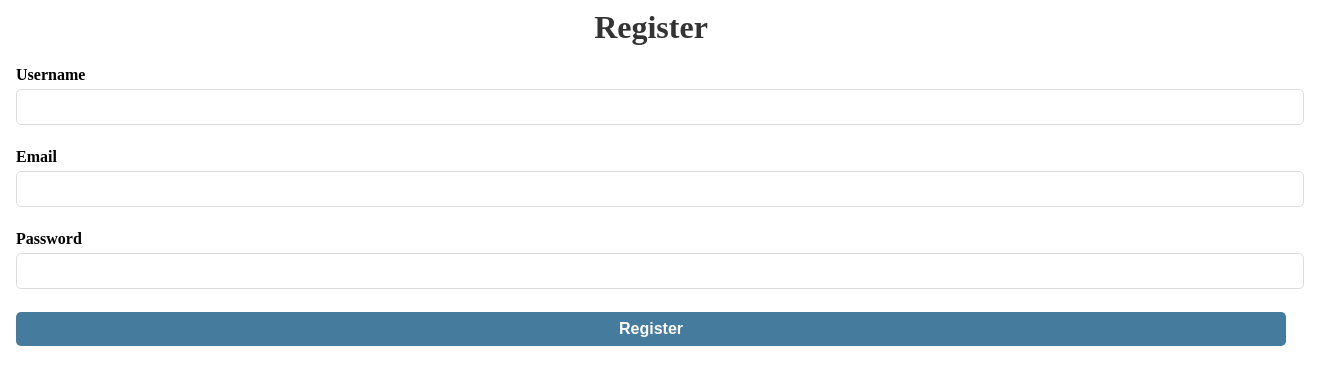
Test case: Register › shows error if password is invalid (missing number or special char)
This screenshot has width=1321, height=391.
In the field labelled "Username": (660, 107) [16, 89, 1304, 125], type "validUser"
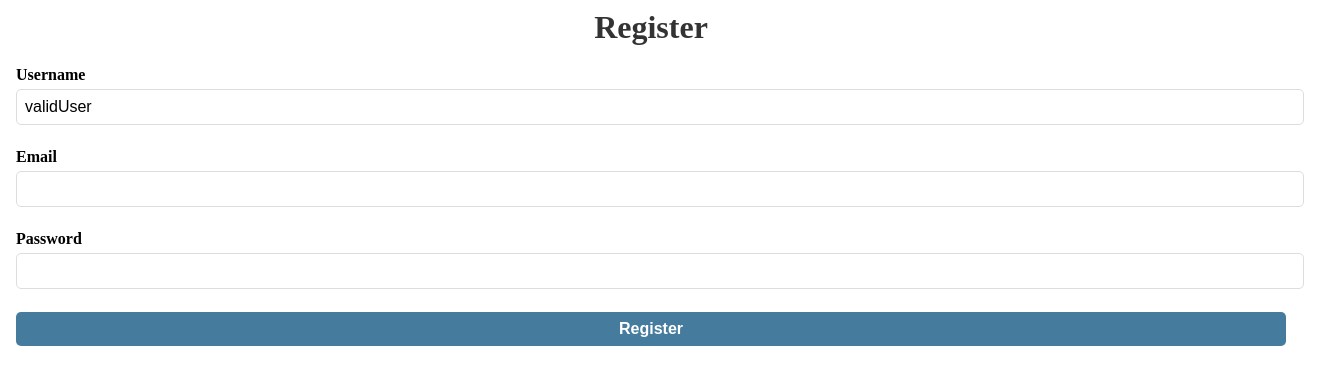
In the field labelled "Email": (660, 189) [16, 171, 1304, 207], type "test@example.com"
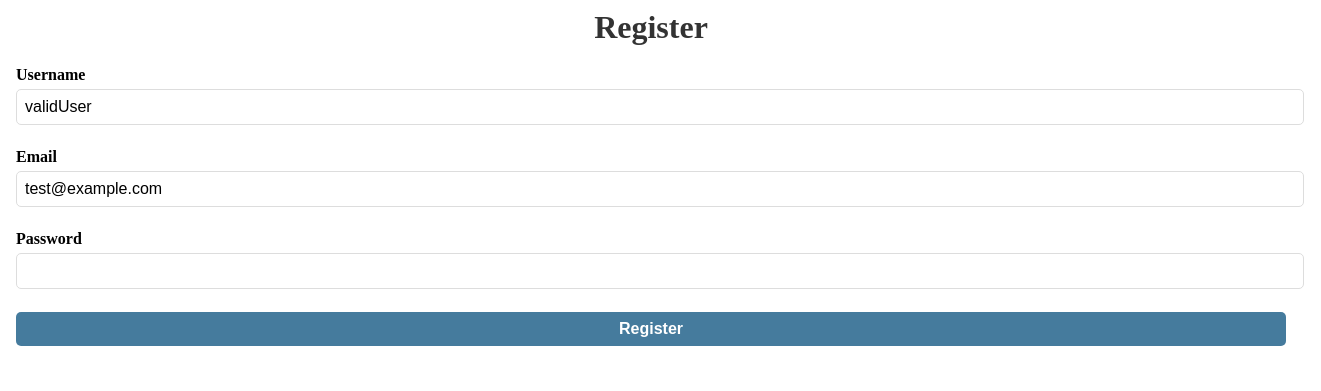
In the password field labelled "Password": (660, 271) [16, 253, 1304, 289], type "abcdef"
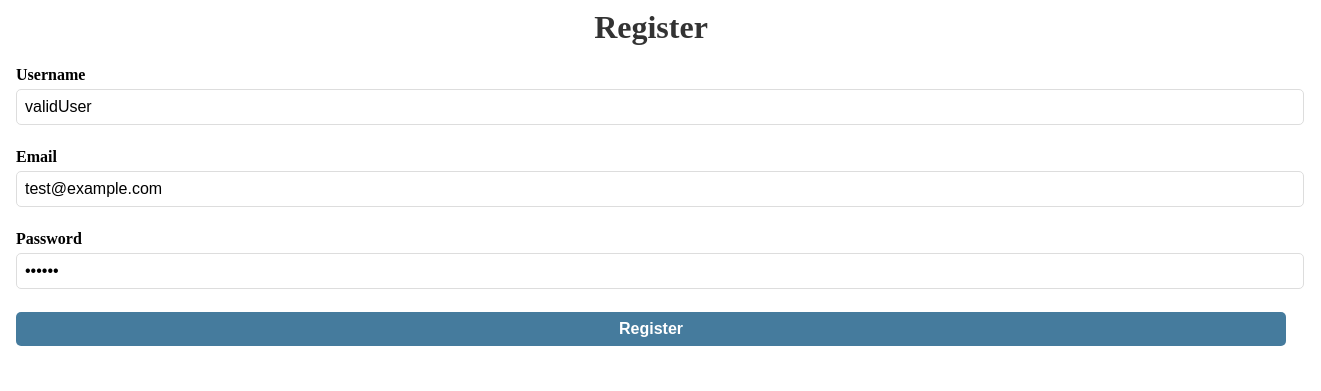
Click the button "Register": (651, 329) [16, 312, 1286, 346]
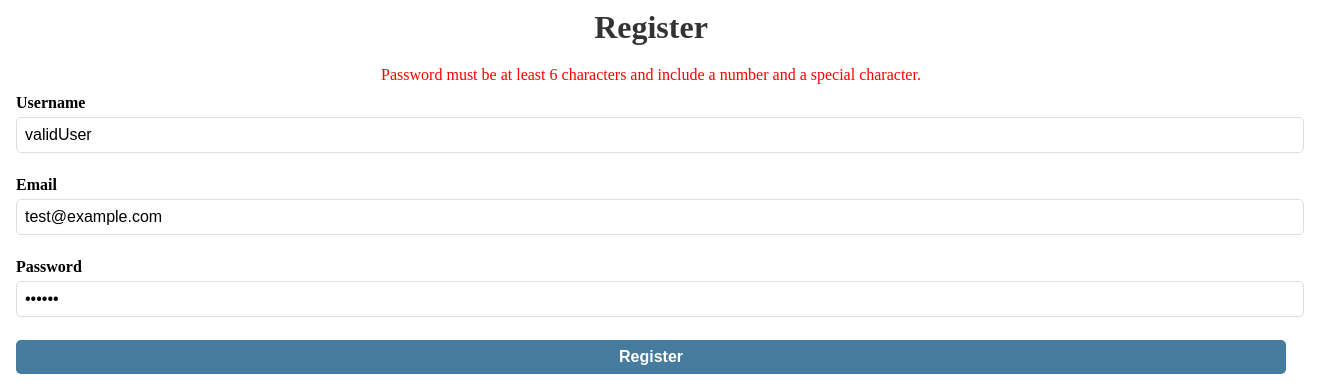
Expected: the text "Password must be at least 6 characters" is shown, [381, 66, 921, 83]
